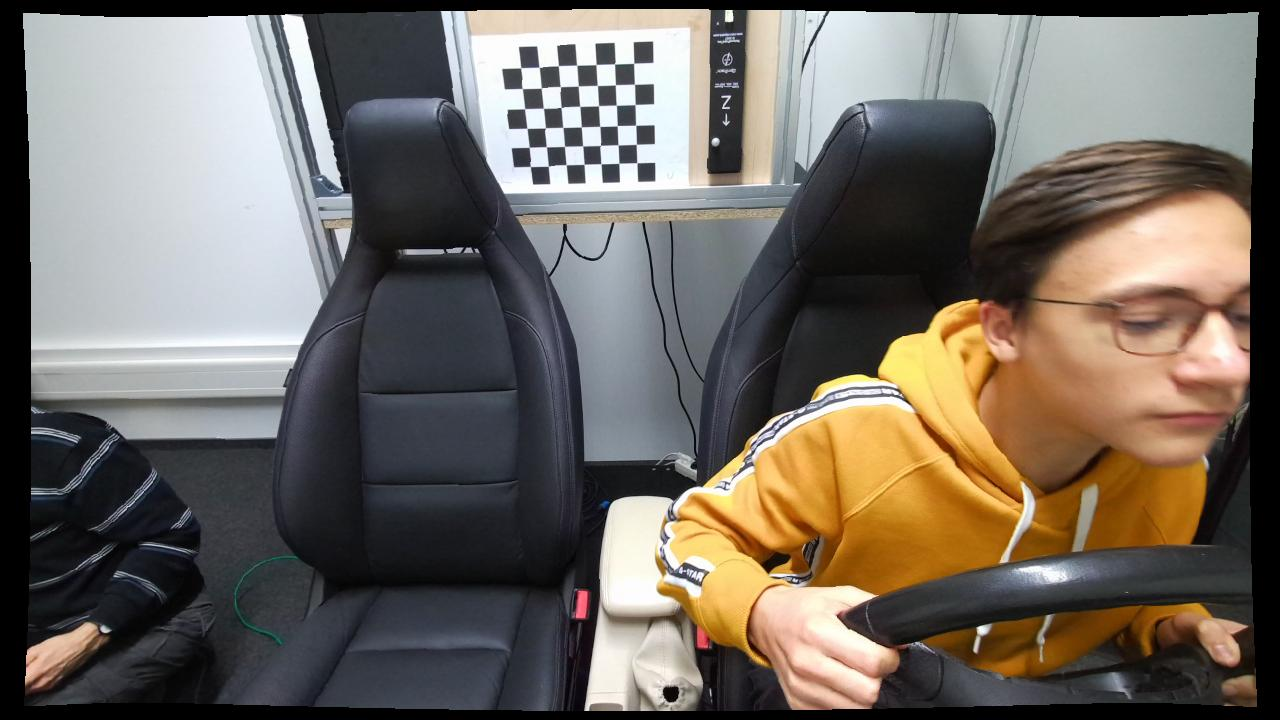Distracted: (655, 139, 1253, 711)
